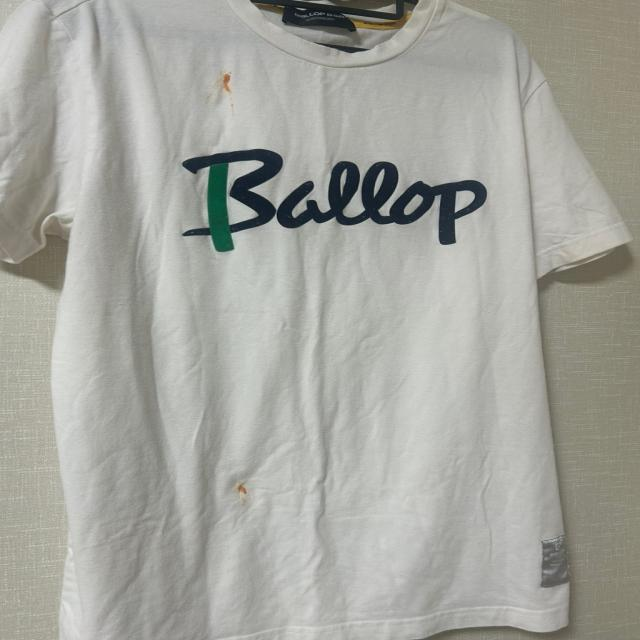stain: (215, 70, 236, 96), (224, 102, 238, 115), (236, 485, 252, 496)
